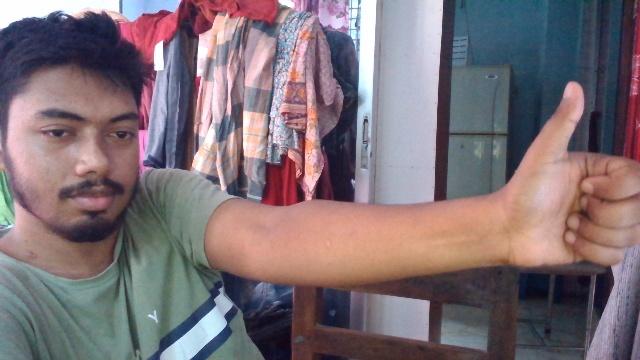yes: (526, 78, 640, 272)
